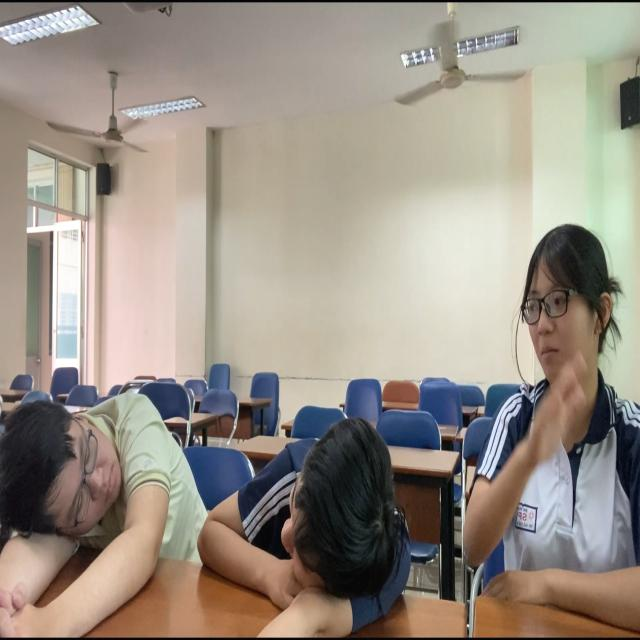sleep: (188, 400, 433, 630), (1, 359, 212, 623)
